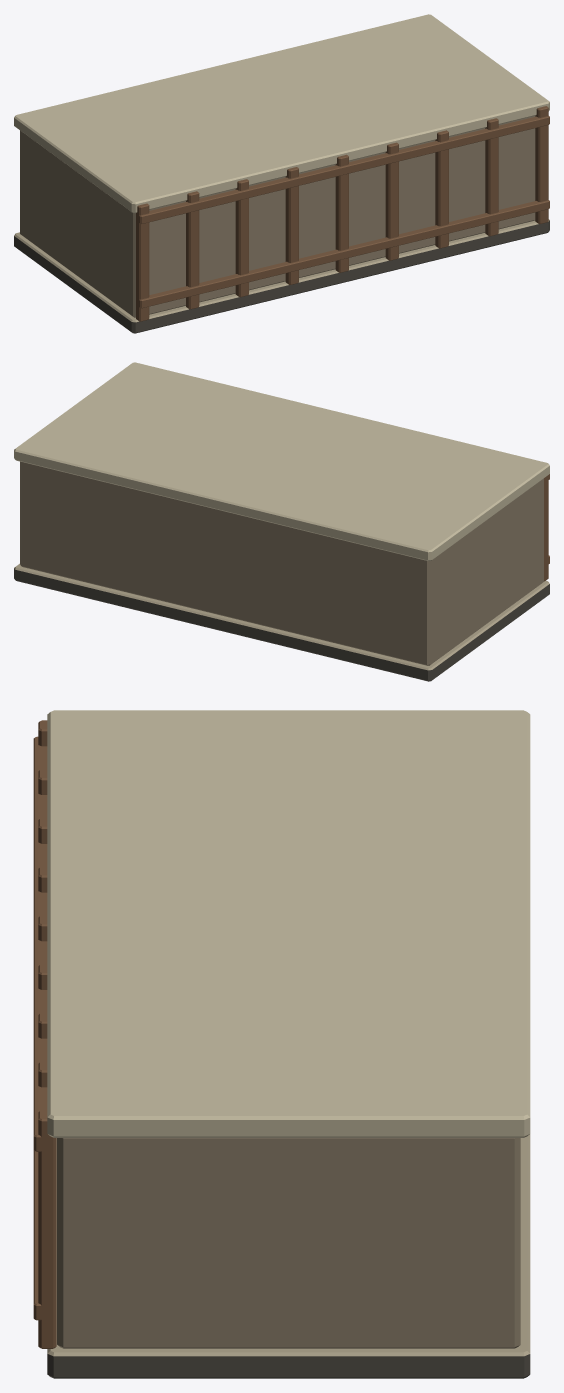
The model's file is platform-wide.glb.
The picture shows the model from 3 angles, top to bottom: view 1: azimuth 30°, elevation 25°; view 2: azimuth 150°, elevation 25°; view 3: azimuth 270°, elevation 25°; orthographic projection. The views are drawn at different scales.
Visible parts, largest first — view 1: platform-wide__body; view 2: platform-wide__body; view 3: platform-wide__body.
Boxes of the visible parts, bbox=[...] form: platform-wide__body: bbox=[14, 14, 549, 333]; platform-wide__body: bbox=[14, 362, 549, 681]; platform-wide__body: bbox=[33, 710, 530, 1378].
Size of the model in its own units: 4 by 1.2 by 2.06.
